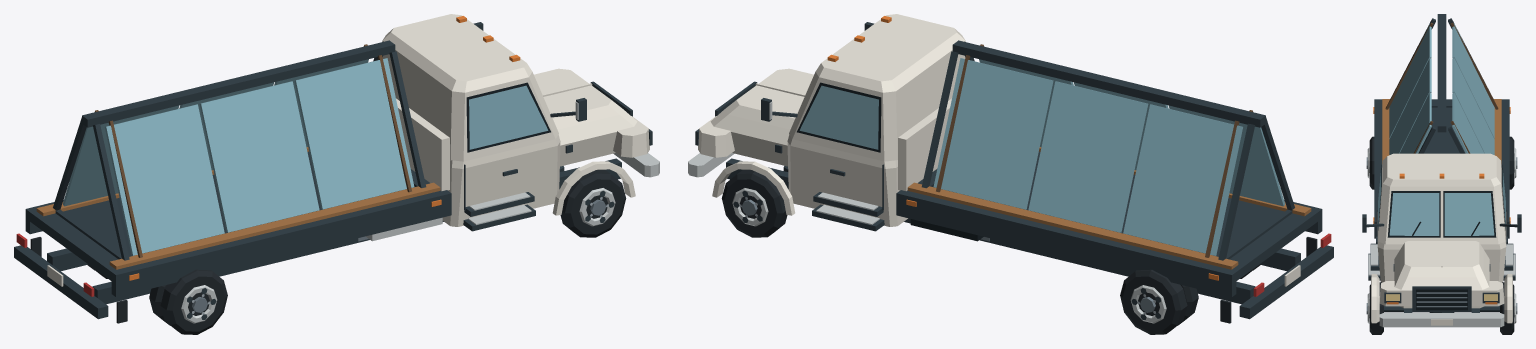
Rendered from b15_glass_transport_truck.glb.
3 renders of one model, left to right at view 1: azimuth 30°, elevation 25°; view 2: azimuth 150°, elevation 25°; view 3: azimuth 270°, elevation 25°, orthographic. The views are drawn at different scales.
Parts seen in each view (by area): view 1: b15_glass_transport_truck; view 2: b15_glass_transport_truck; view 3: b15_glass_transport_truck.
Part boxes in pixels (<box>): b15_glass_transport_truck: <box>14,14,659,334</box>; b15_glass_transport_truck: <box>688,14,1333,334</box>; b15_glass_transport_truck: <box>1362,14,1521,334</box>.
Size of the model in its own units: 8.88 by 2.98 by 2.88.
